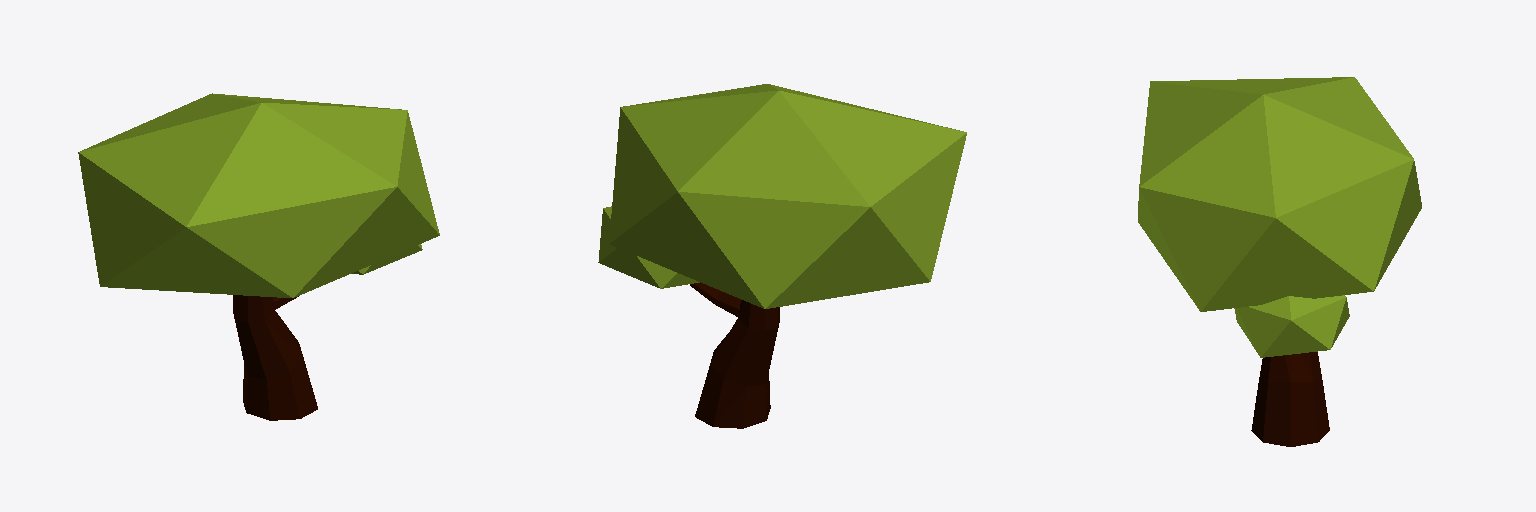
Rendered from Bush2.obj.
3 renders of one model, left to right at view 1: azimuth 30°, elevation 25°; view 2: azimuth 150°, elevation 25°; view 3: azimuth 270°, elevation 25°, orthographic.
Visible parts, largest first — view 1: Bush2_Icosphere.002; view 2: Bush2_Icosphere.002; view 3: Bush2_Icosphere.002.
Part boxes in pixels (x1,y1,x2,y2): Bush2_Icosphere.002: (78, 93, 439, 420); Bush2_Icosphere.002: (598, 84, 966, 428); Bush2_Icosphere.002: (1138, 77, 1421, 446).
Bounding box in the file's own units: 0.9968 × 0.9567 × 0.7714.